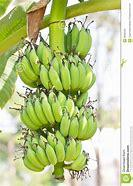banana: (19, 29, 100, 167), (16, 34, 104, 86), (16, 129, 99, 180), (26, 85, 92, 132)
